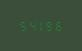five: (18, 20, 26, 31)
four: (27, 20, 35, 31)
nine: (45, 20, 53, 31)
one: (36, 20, 44, 31)
six: (54, 20, 62, 31)
